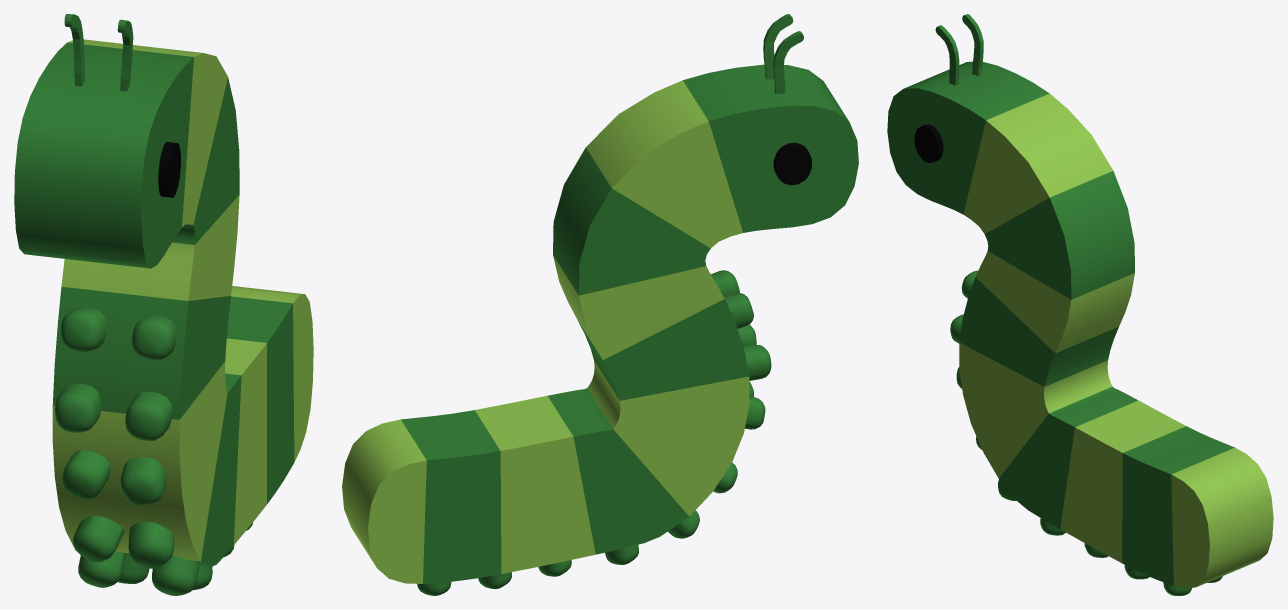
Rendered from bug.glb.
3 renders of one model, left to right at view 1: azimuth 30°, elevation 25°; view 2: azimuth 150°, elevation 25°; view 3: azimuth 270°, elevation 25°, orthographic. The views are drawn at different scales.
Parts seen in each view (by area): view 1: Plane.175; view 2: Plane.175; view 3: Plane.175.
Boxes of the visible parts, x1,y1,x2,y2 form: Plane.175: (14,14,313,595); Plane.175: (342,14,858,595); Plane.175: (887,14,1273,595).
Bounding box in the file's own units: 1.68 × 2.24 × 1.68.
Materials: 1 (1 with a texture image).
